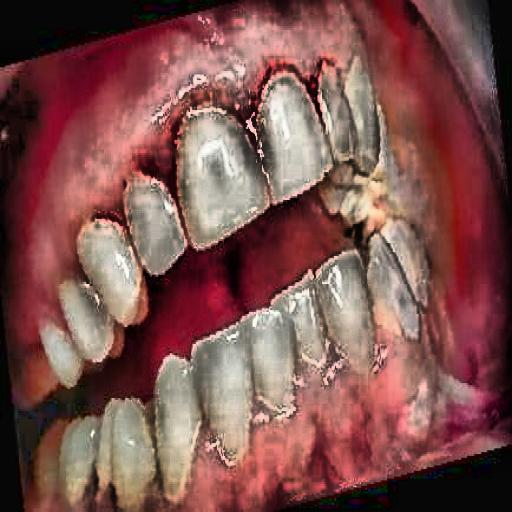Gingivitis: (44, 76, 173, 215), (188, 7, 365, 90)
